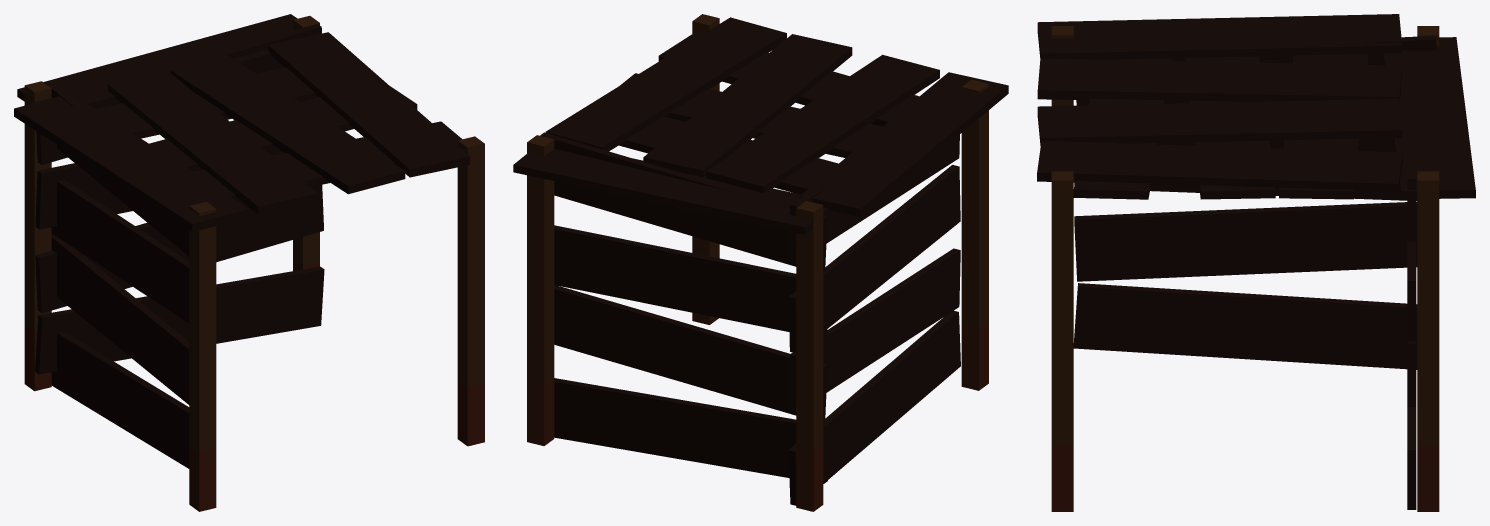
Rendered from Stand3.fbx.
The picture shows the model from 3 angles, left to right: view 1: azimuth 30°, elevation 25°; view 2: azimuth 150°, elevation 25°; view 3: azimuth 270°, elevation 25°; orthographic projection. The views are drawn at different scales.
Parts seen in each view (by area): view 1: mergedBlocks; view 2: mergedBlocks; view 3: mergedBlocks.
Boxes of the visible parts, bbox=[...] form: mergedBlocks: bbox=[14, 14, 484, 511]; mergedBlocks: bbox=[513, 14, 1008, 511]; mergedBlocks: bbox=[1037, 14, 1475, 511].
Size of the model in its own units: 11 by 10 by 12.
